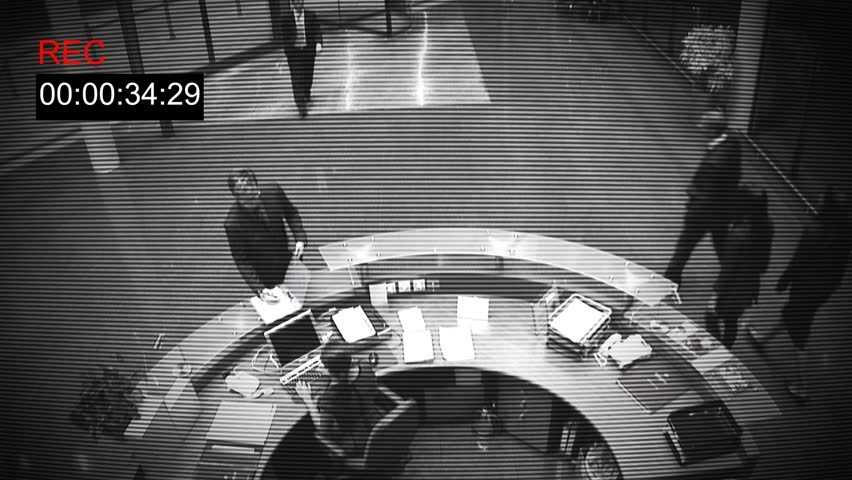person: (303, 342, 406, 448), (219, 176, 314, 287), (799, 193, 848, 332), (689, 112, 733, 241), (729, 196, 769, 323), (281, 0, 324, 117)
